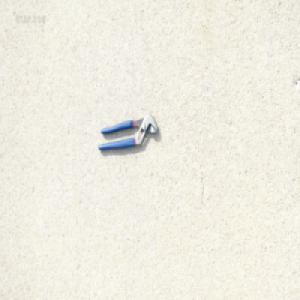Pliers: (97, 113, 159, 152)
